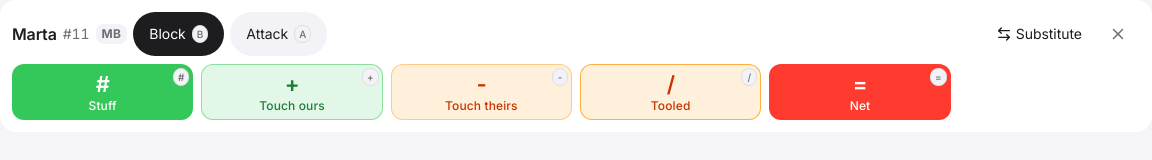
it: ActionSheet › hides grades a skill does not have
Expected: the button "!" is not shown
Click the button "Attack A": (279, 34) [230,12,327,56]
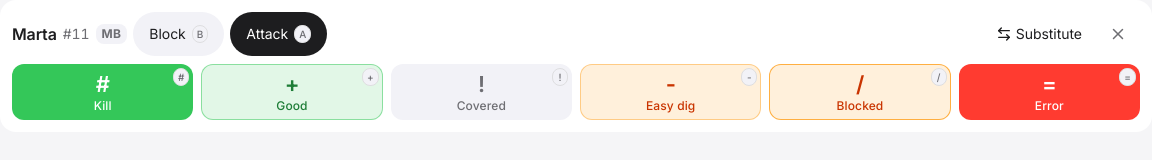
Expected: the button "! ! Covered" is shown, [391,64,572,120]
